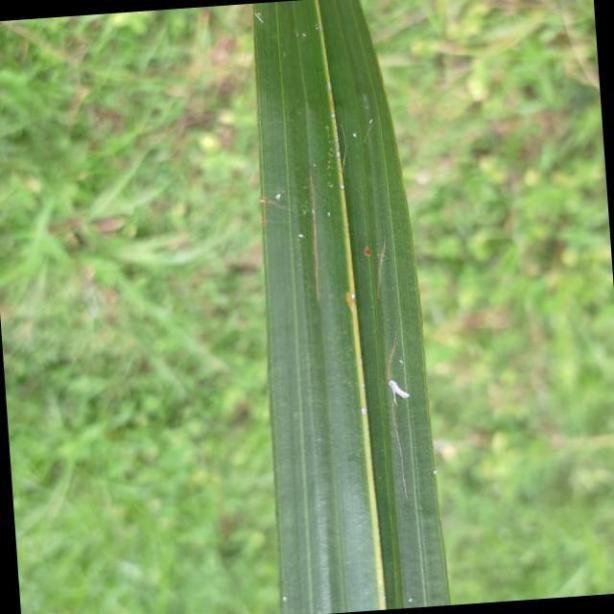Boron: (248, 0, 452, 614)
